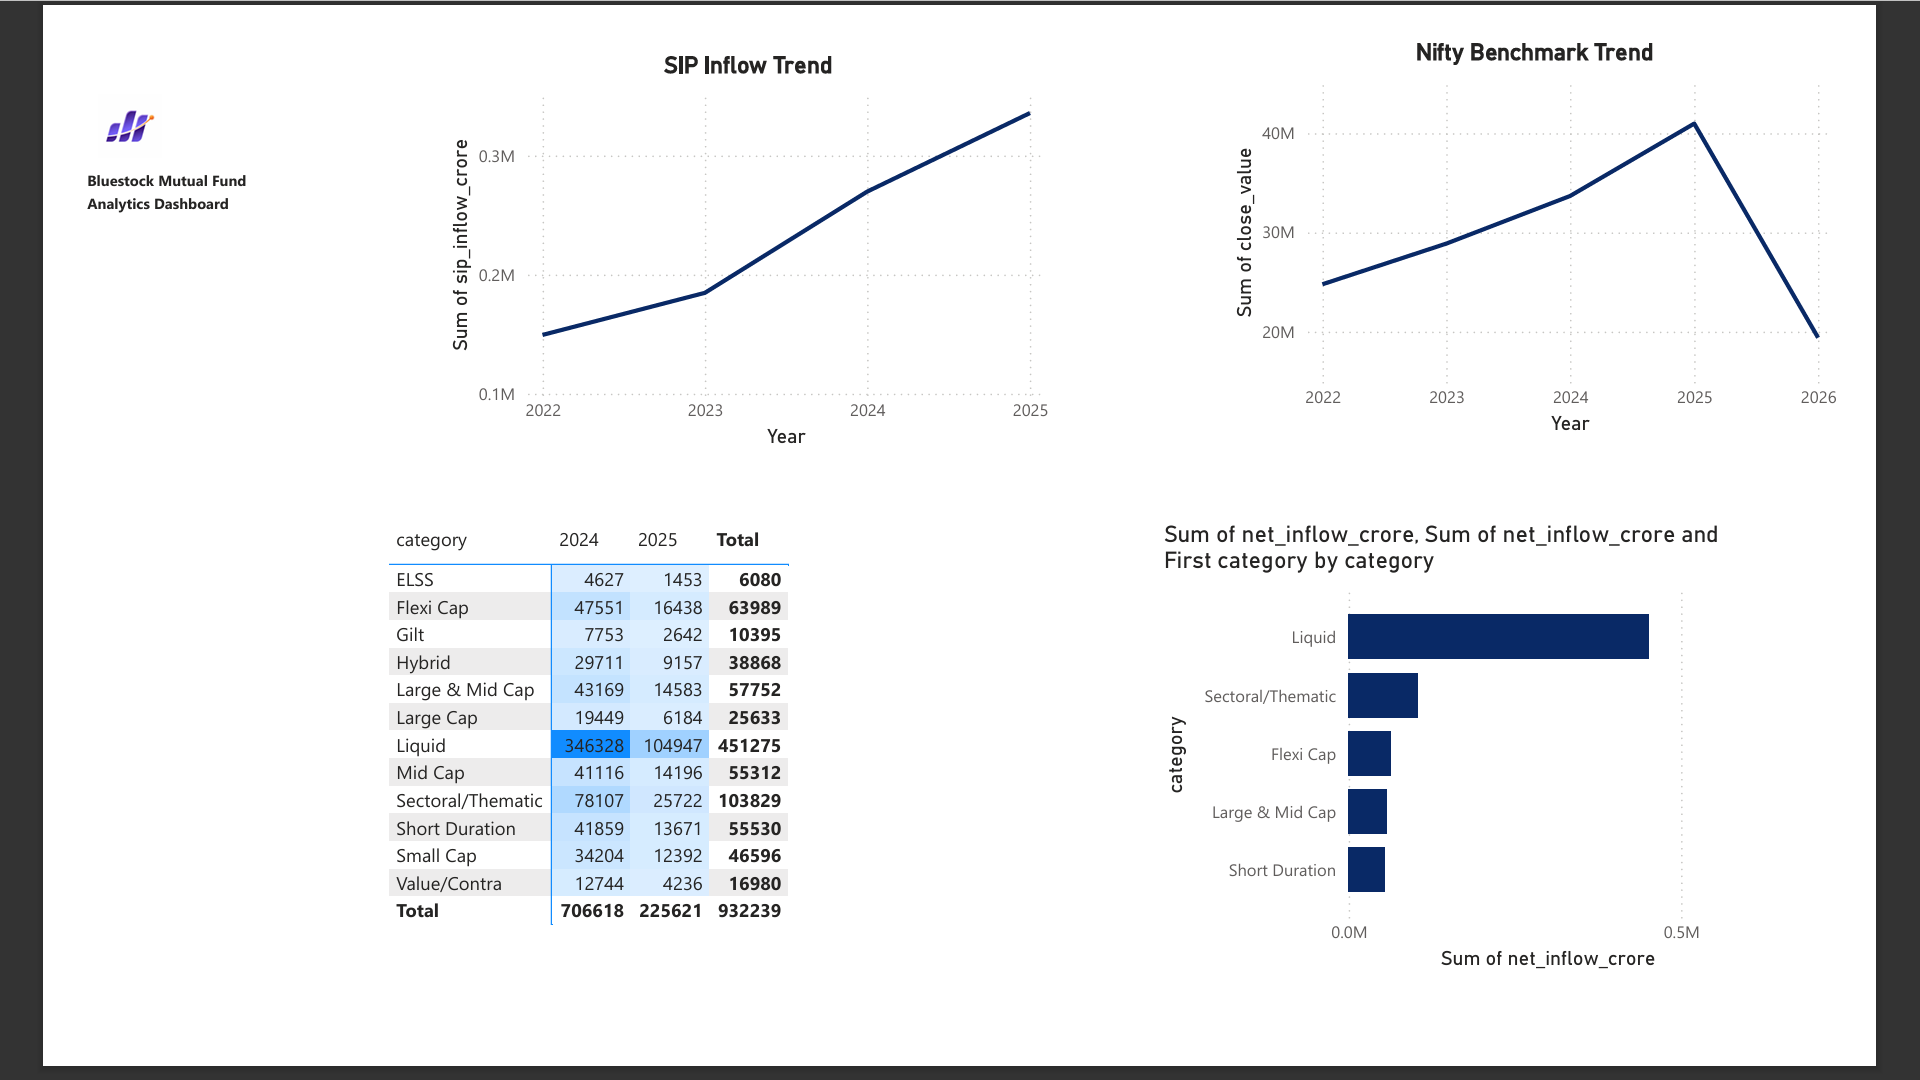

The dashboard page shown, as its layout file describes it:
{"tool":"powerbi","page":{"name":"SIP & Market Trends","canvas":[1280,720],"ordinal":3},"visuals":[{"type":"lineChart","title":"SIP Inflow Trend","fields":{"Category":["monthly_sip_inflows_clean.month.Variation.Date Hierarchy.Year","monthly_sip_inflows_clean.month.Variation.Date Hierarchy.Quarter","monthly_sip_inflows_clean.month.Variation.Date Hierarchy.Month","monthly_sip_inflows_clean.month.Variation.Date Hierarchy.Day"],"Y":["Sum(monthly_sip_inflows_clean.sip_inflow_crore)"]},"box":[265,9,444,292],"z":0},{"type":"lineChart","title":"Nifty Benchmark Trend","fields":{"Category":["benchmark_indices_clean.date.Variation.Date Hierarchy.Year","benchmark_indices_clean.date.Variation.Date Hierarchy.Quarter","benchmark_indices_clean.date.Variation.Date Hierarchy.Month","benchmark_indices_clean.date.Variation.Date Hierarchy.Day"],"Y":["Sum(benchmark_indices_clean.close_value)"]},"box":[833,0,447,292],"z":1},{"type":"pivotTable","fields":{"Rows":["category_inflows_clean.category"],"Values":["Sum(category_inflows_clean.net_inflow_crore)"],"Columns":["category_inflows_clean.month.Variation.Date Hierarchy.Year","category_inflows_clean.month.Variation.Date Hierarchy.Quarter","category_inflows_clean.month.Variation.Date Hierarchy.Month","category_inflows_clean.month.Variation.Date Hierarchy.Day"]},"box":[222,348,443,331],"z":2},{"type":"clusteredBarChart","fields":{"Category":["category_inflows_clean.category"],"Y":["Sum(category_inflows_clean.net_inflow_crore)"]},"box":[783,349,447,330],"z":3},{"type":"image","box":[0,41,77,46],"z":4},{"type":"textbox","box":[2.5,87.5,155,47.5],"z":5}]}

Visuals, with their boxes in screenshot pixels (x1, y1, x2, y2), scaled from the page's 1280x720 canvas onto the 1920x1080 screenshot:
"SIP Inflow Trend" lineChart: bbox=(398, 14, 1064, 452)
"Nifty Benchmark Trend" lineChart: bbox=(1250, 0, 1919, 438)
pivotTable - category_inflows_clean.category x Sum(category_inflows_clean.net_inflow_crore): bbox=(333, 522, 998, 1018)
clusteredBarChart - category_inflows_clean.category x Sum(category_inflows_clean.net_inflow_crore): bbox=(1174, 524, 1845, 1018)
image: bbox=(0, 62, 116, 130)
textbox: bbox=(4, 131, 236, 202)
